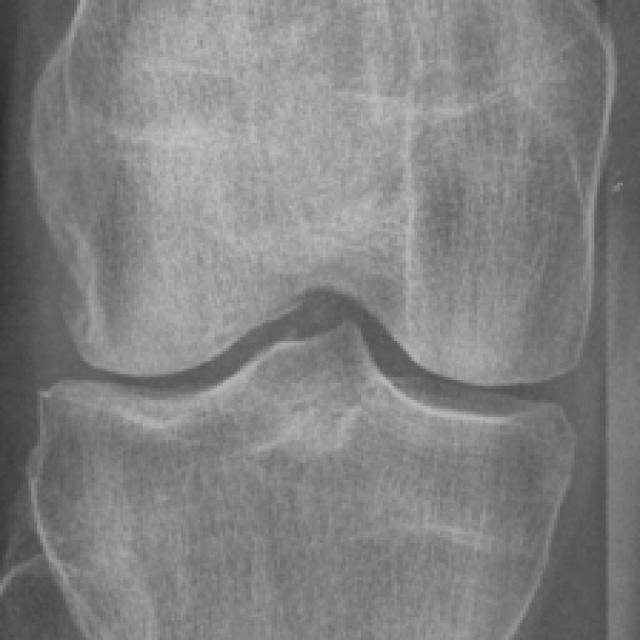femur: (30, 0, 616, 389)
tibia: (34, 323, 571, 637)
